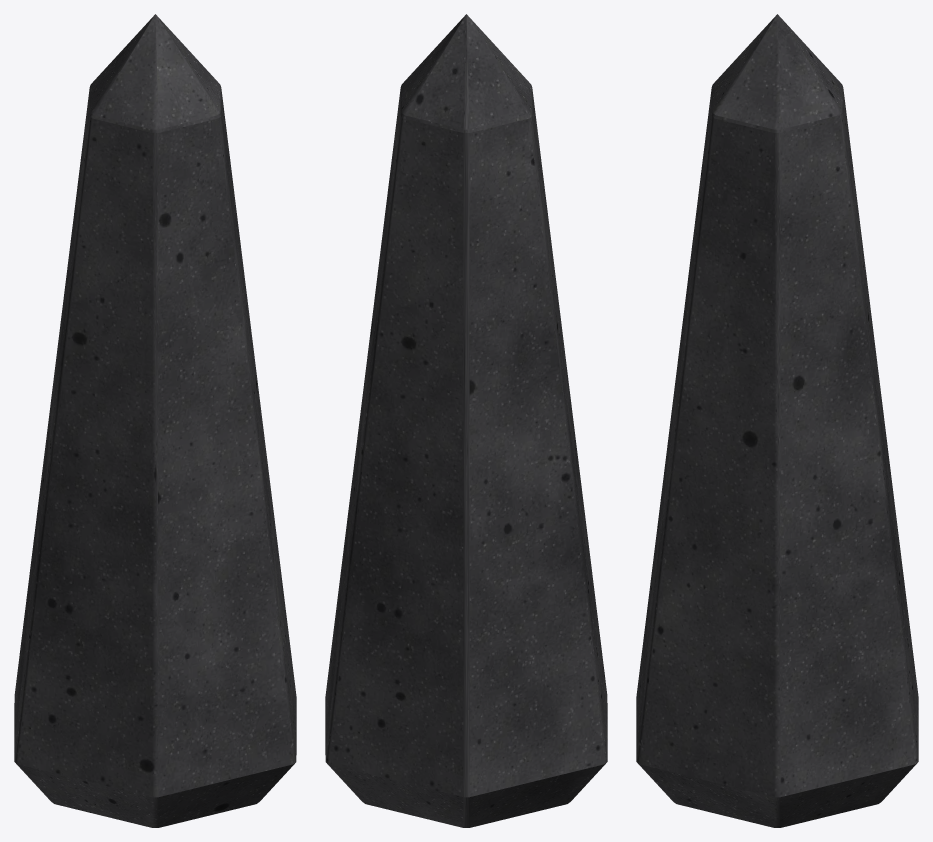
The model's file is bishop-black.glb.
3 views of the same model, side by side, from view 1: azimuth 30°, elevation 25°; view 2: azimuth 150°, elevation 25°; view 3: azimuth 270°, elevation 25° (orthographic).
Parts seen in each view (by area): view 1: HEXALITH_black_bishop; view 2: HEXALITH_black_bishop; view 3: HEXALITH_black_bishop.
Part boxes in pixels (box(x1,y1,x2,y2)): HEXALITH_black_bishop: box(14, 14, 296, 827); HEXALITH_black_bishop: box(325, 14, 607, 827); HEXALITH_black_bishop: box(636, 14, 918, 827).
Size of the model in its own units: 0.5348 by 1.4 by 0.4685.
Materials: 1 (1 with a texture image).
